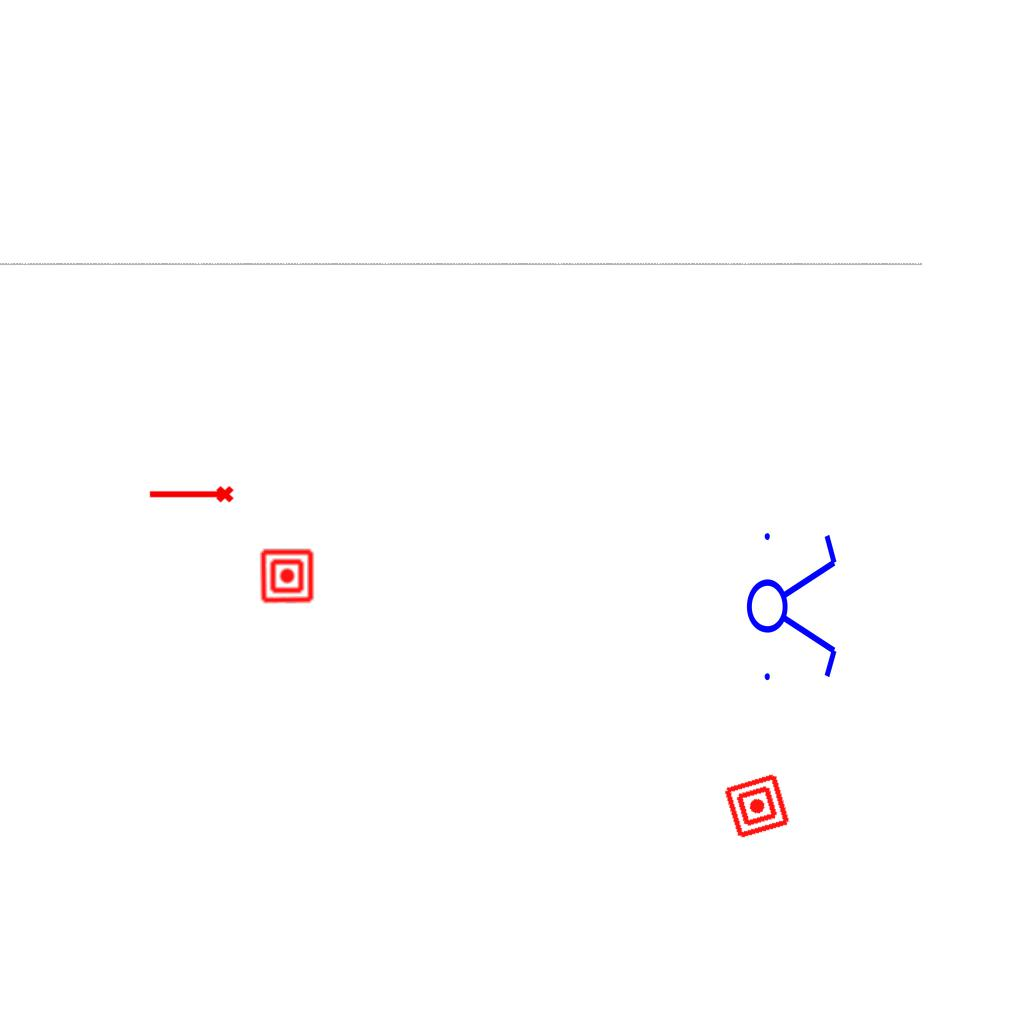ASR_Ansaugoeffnung: (147, 484, 235, 507)
NAM-Nichtautomatischer_Melder: (722, 771, 792, 841), (259, 548, 315, 604)
Serienschalter: (745, 521, 841, 689)
